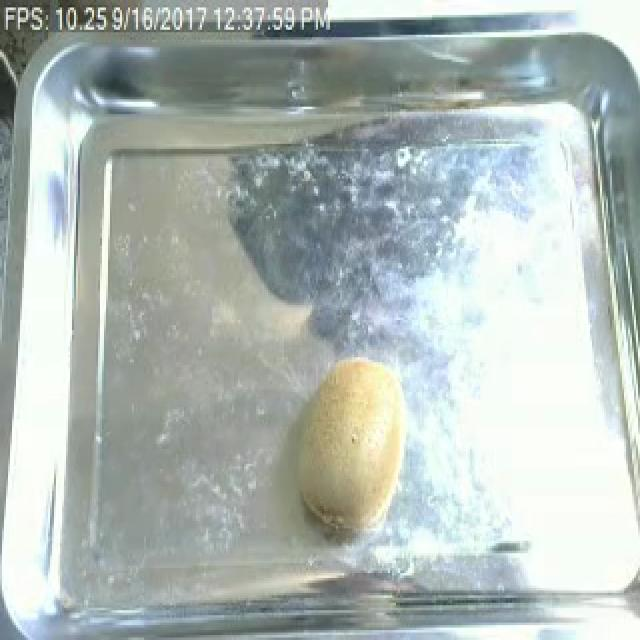Fruit: (284, 347, 418, 541)
